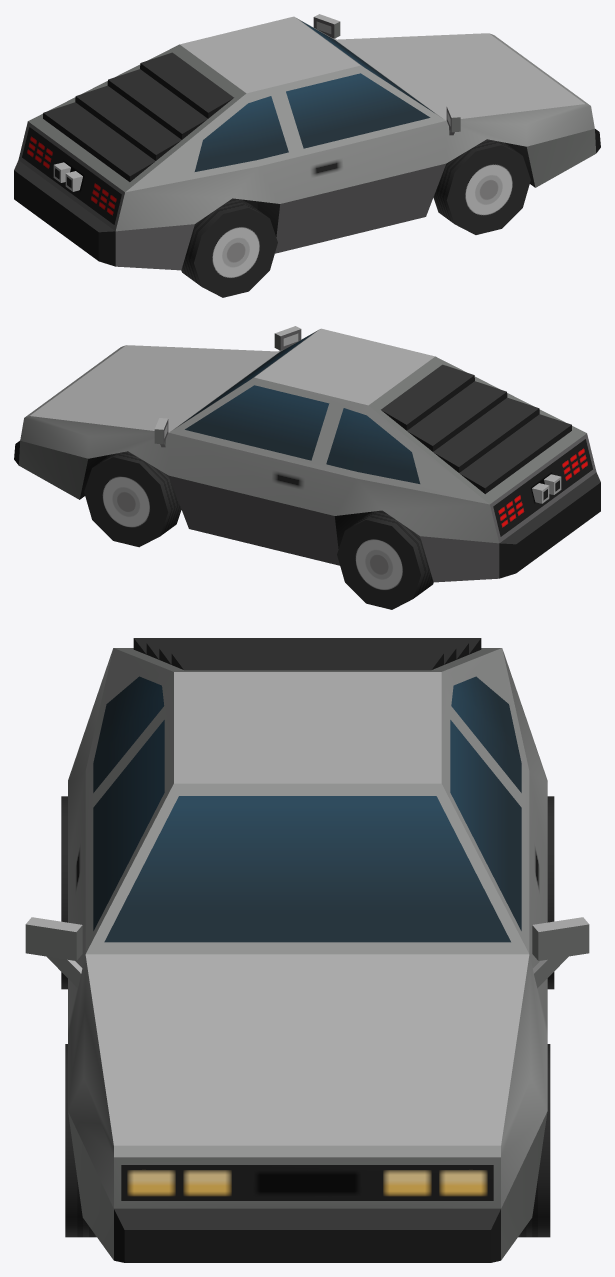
Rendered from Car_218.glb.
3 renders of one model, top to bottom at view 1: azimuth 30°, elevation 25°; view 2: azimuth 150°, elevation 25°; view 3: azimuth 270°, elevation 25°, orthographic. The views are drawn at different scales.
Parts seen in each view (by area): view 1: Car_218, wheel_3_Car_218_Wheel_2R, wheel_1_Car_218_Wheel_1R; view 2: Car_218, wheel_2_Car_218_Wheel_2L, wheel_0_Car_218_Wheel_1L; view 3: Car_218, wheel_0_Car_218_Wheel_1L, wheel_1_Car_218_Wheel_1R, wheel_2_Car_218_Wheel_2L, wheel_3_Car_218_Wheel_2R.
Boxes of the visible parts, box(x1,y1,x2,y2) form: Car_218: box(14, 14, 600, 270); wheel_3_Car_218_Wheel_2R: box(181, 198, 277, 297); wheel_1_Car_218_Wheel_1R: box(433, 139, 530, 234); Car_218: box(14, 326, 600, 582); wheel_2_Car_218_Wheel_2L: box(337, 510, 433, 609); wheel_0_Car_218_Wheel_1L: box(84, 451, 181, 547); Car_218: box(25, 638, 589, 1262); wheel_0_Car_218_Wheel_1L: box(518, 1044, 550, 1237); wheel_1_Car_218_Wheel_1R: box(65, 1044, 96, 1237); wheel_2_Car_218_Wheel_2L: box(547, 796, 554, 989); wheel_3_Car_218_Wheel_2R: box(61, 796, 67, 989).
Size of the model in its own units: 4.13 by 1.35 by 2.02.
Materials: 1 (1 with a texture image).
